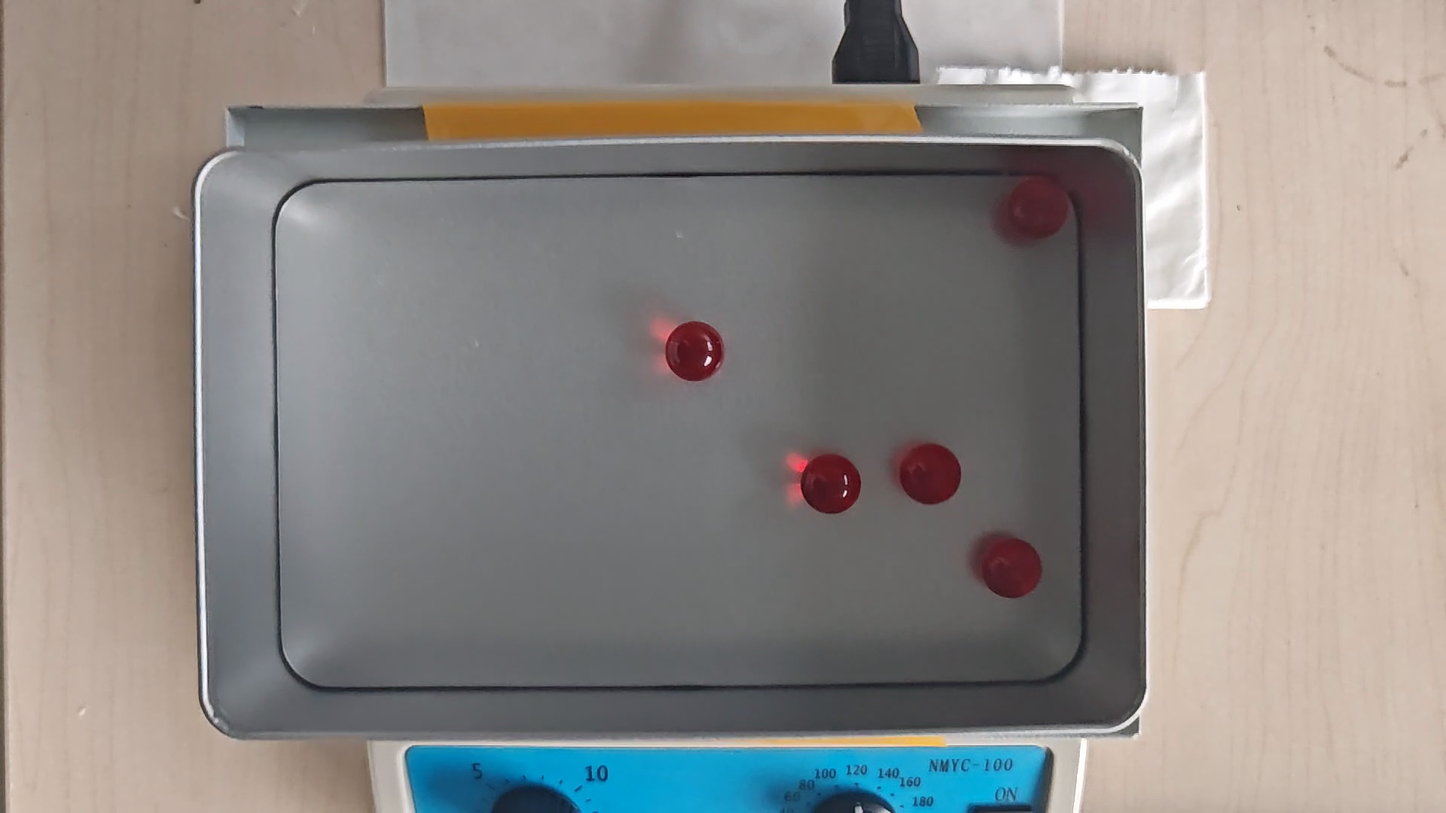ball: (983, 536, 1043, 599), (901, 444, 960, 505), (803, 452, 860, 515), (667, 321, 725, 382), (1009, 179, 1067, 239)
container: (276, 174, 1082, 687)
